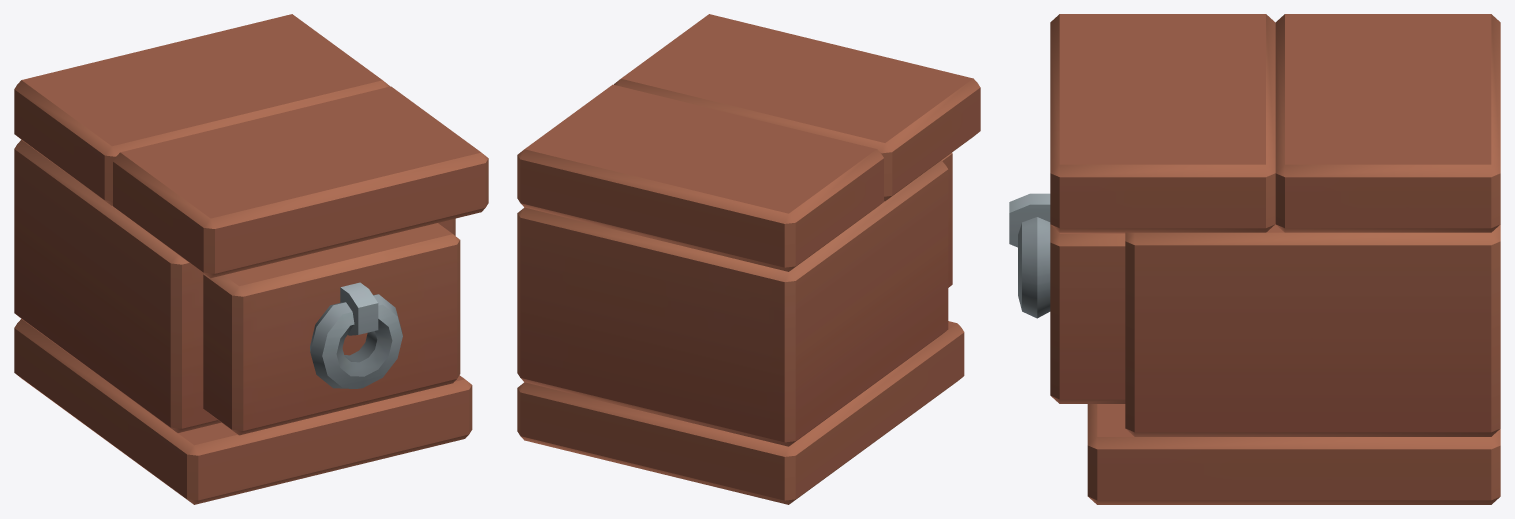
The model's file is bar_straight_c_short.glb.
3 renders of one model, left to right at view 1: azimuth 30°, elevation 25°; view 2: azimuth 150°, elevation 25°; view 3: azimuth 270°, elevation 25°, orthographic. The views are drawn at different scales.
Parts seen in each view (by area): view 1: bar_straight_C_short; view 2: bar_straight_C_short; view 3: bar_straight_C_short.
Boxes of the visible parts, x1,y1,x2,y2 form: bar_straight_C_short: [14, 14, 488, 504]; bar_straight_C_short: [517, 14, 980, 504]; bar_straight_C_short: [1009, 14, 1500, 504].
Size of the model in its own units: 1 by 1 by 1.31.
Materials: 1 (1 with a texture image).
